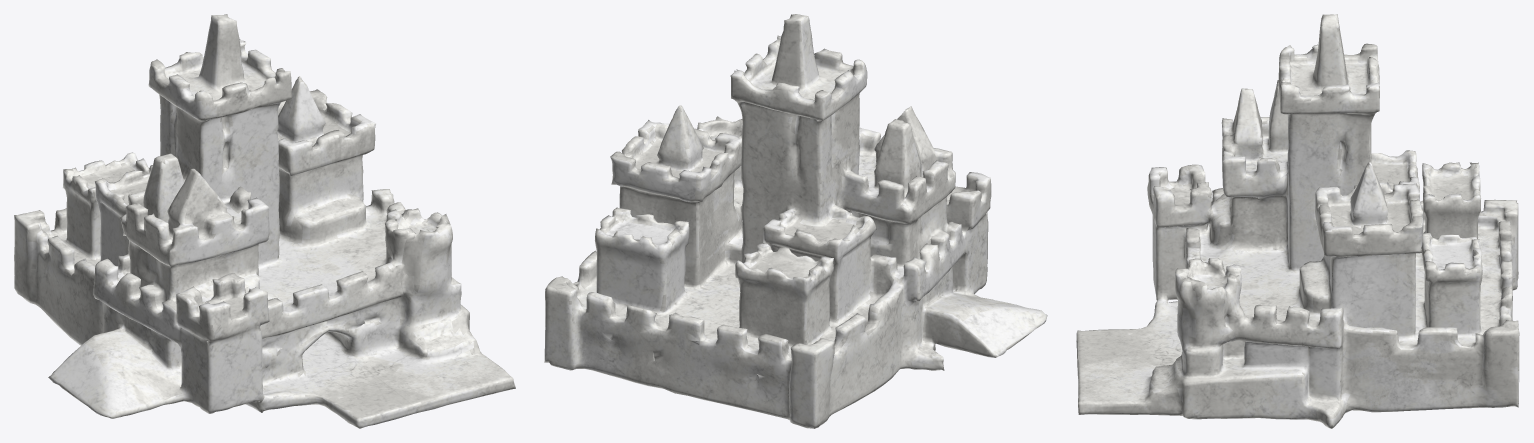
File: noble.glb
The picture shows the model from 3 angles, left to right: view 1: azimuth 30°, elevation 25°; view 2: azimuth 150°, elevation 25°; view 3: azimuth 270°, elevation 25°; orthographic projection.
Visible parts, largest first — view 1: tripo_node_97ec4496; view 2: tripo_node_97ec4496; view 3: tripo_node_97ec4496.
Boxes of the visible parts, x1=… form: tripo_node_97ec4496: x1=14, y1=14, x2=515, y2=428; tripo_node_97ec4496: x1=544, y1=14, x2=1047, y2=428; tripo_node_97ec4496: x1=1076, y1=14, x2=1519, y2=428.
Size of the model in its own units: 0.9666 by 0.7799 by 0.9799.
1 material, 1 textured.
